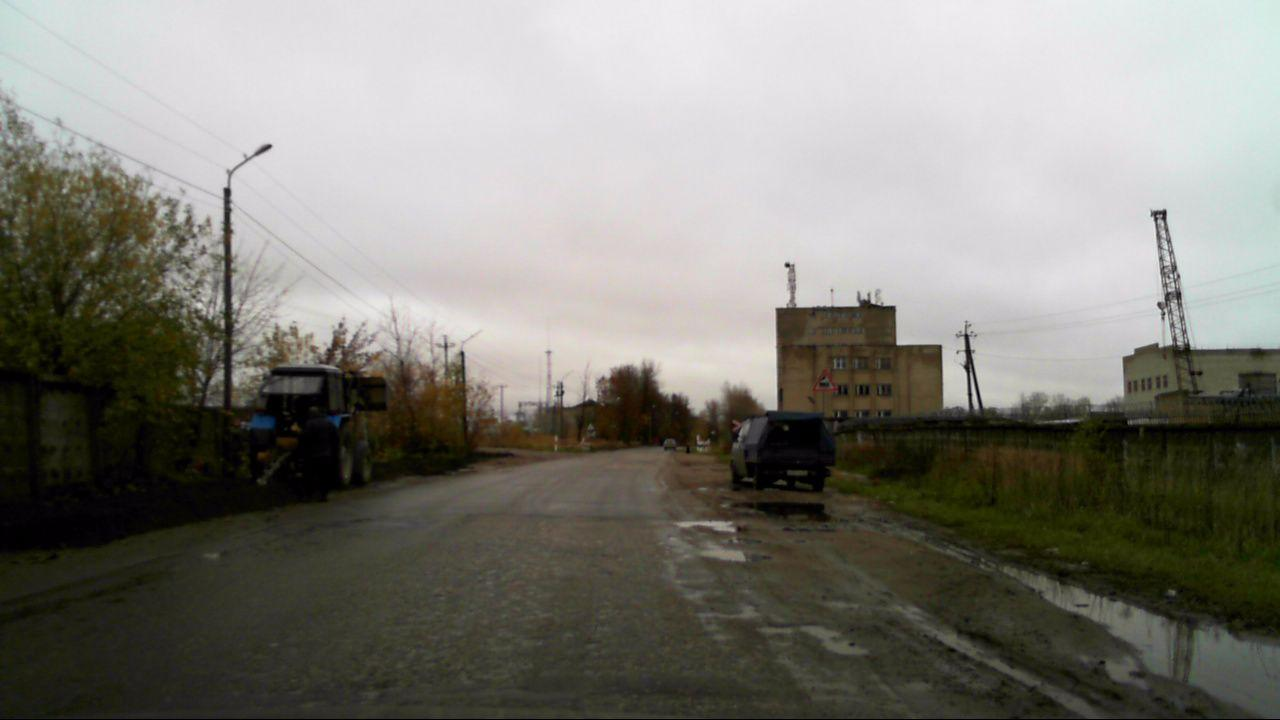1_2: (810, 370, 838, 393)
